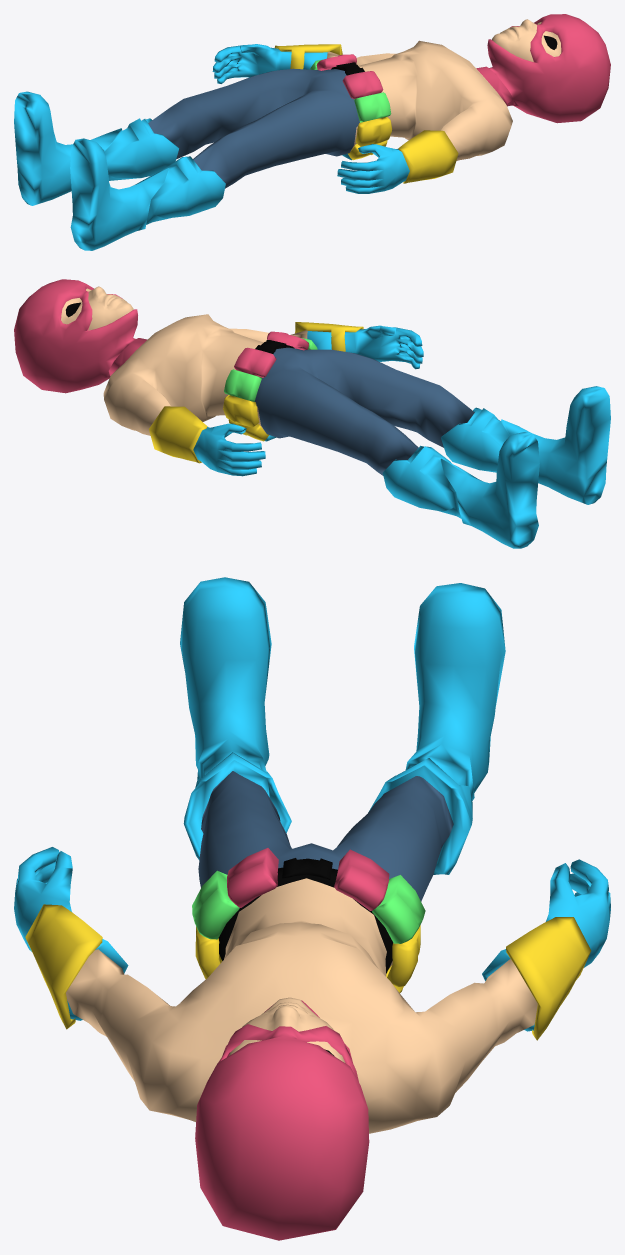
Rendered from ToyObject_226.fbx.
3 renders of one model, top to bottom at view 1: azimuth 30°, elevation 25°; view 2: azimuth 150°, elevation 25°; view 3: azimuth 270°, elevation 25°, orthographic. The views are drawn at different scales.
Parts seen in each view (by area): view 1: Object.080; view 2: Object.080; view 3: Object.080.
Boxes of the visible parts, x1,y1,x2,y2 form: Object.080: (14,14,610,250); Object.080: (14,279,610,548); Object.080: (14,577,610,1240).
Bounding box in the file's own units: 0.2363 × 0.0452 × 0.1207.
